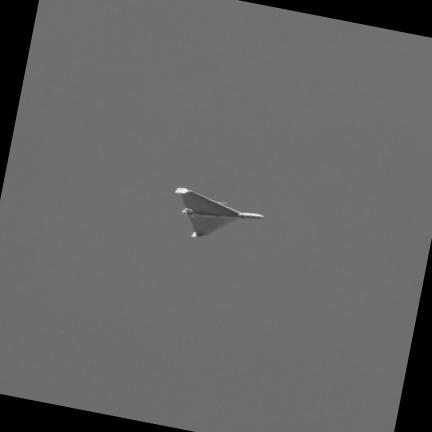Shahed: (175, 187, 262, 236)
